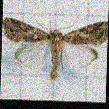Spodoptera litura: (1, 14, 107, 80)
